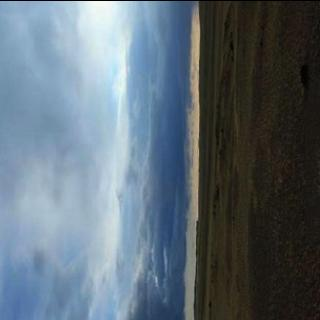Nimbostratus: (0, 0, 191, 320)
